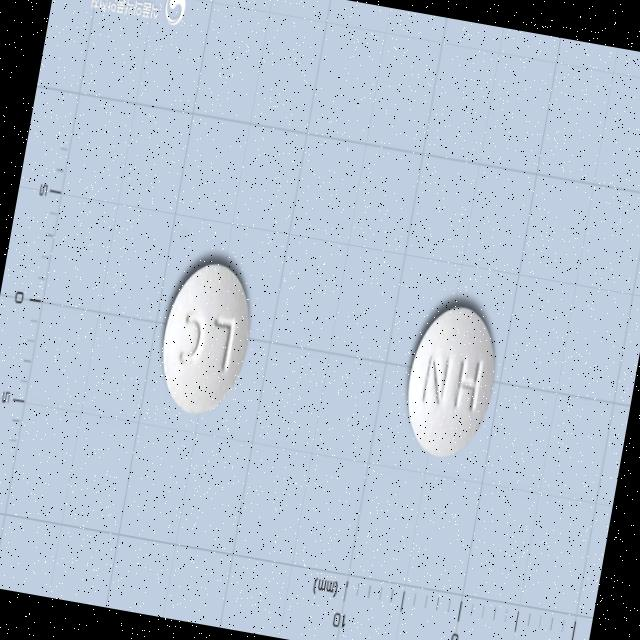Lenacin: (149, 256, 260, 423), (395, 299, 505, 465)
